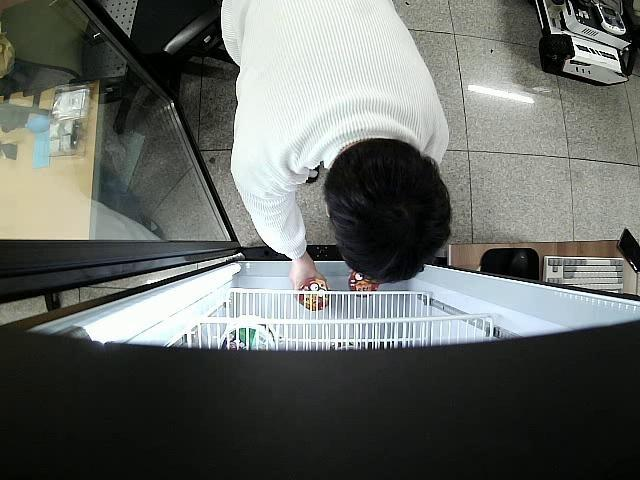06_nuguri_S: (300, 278, 332, 312)
